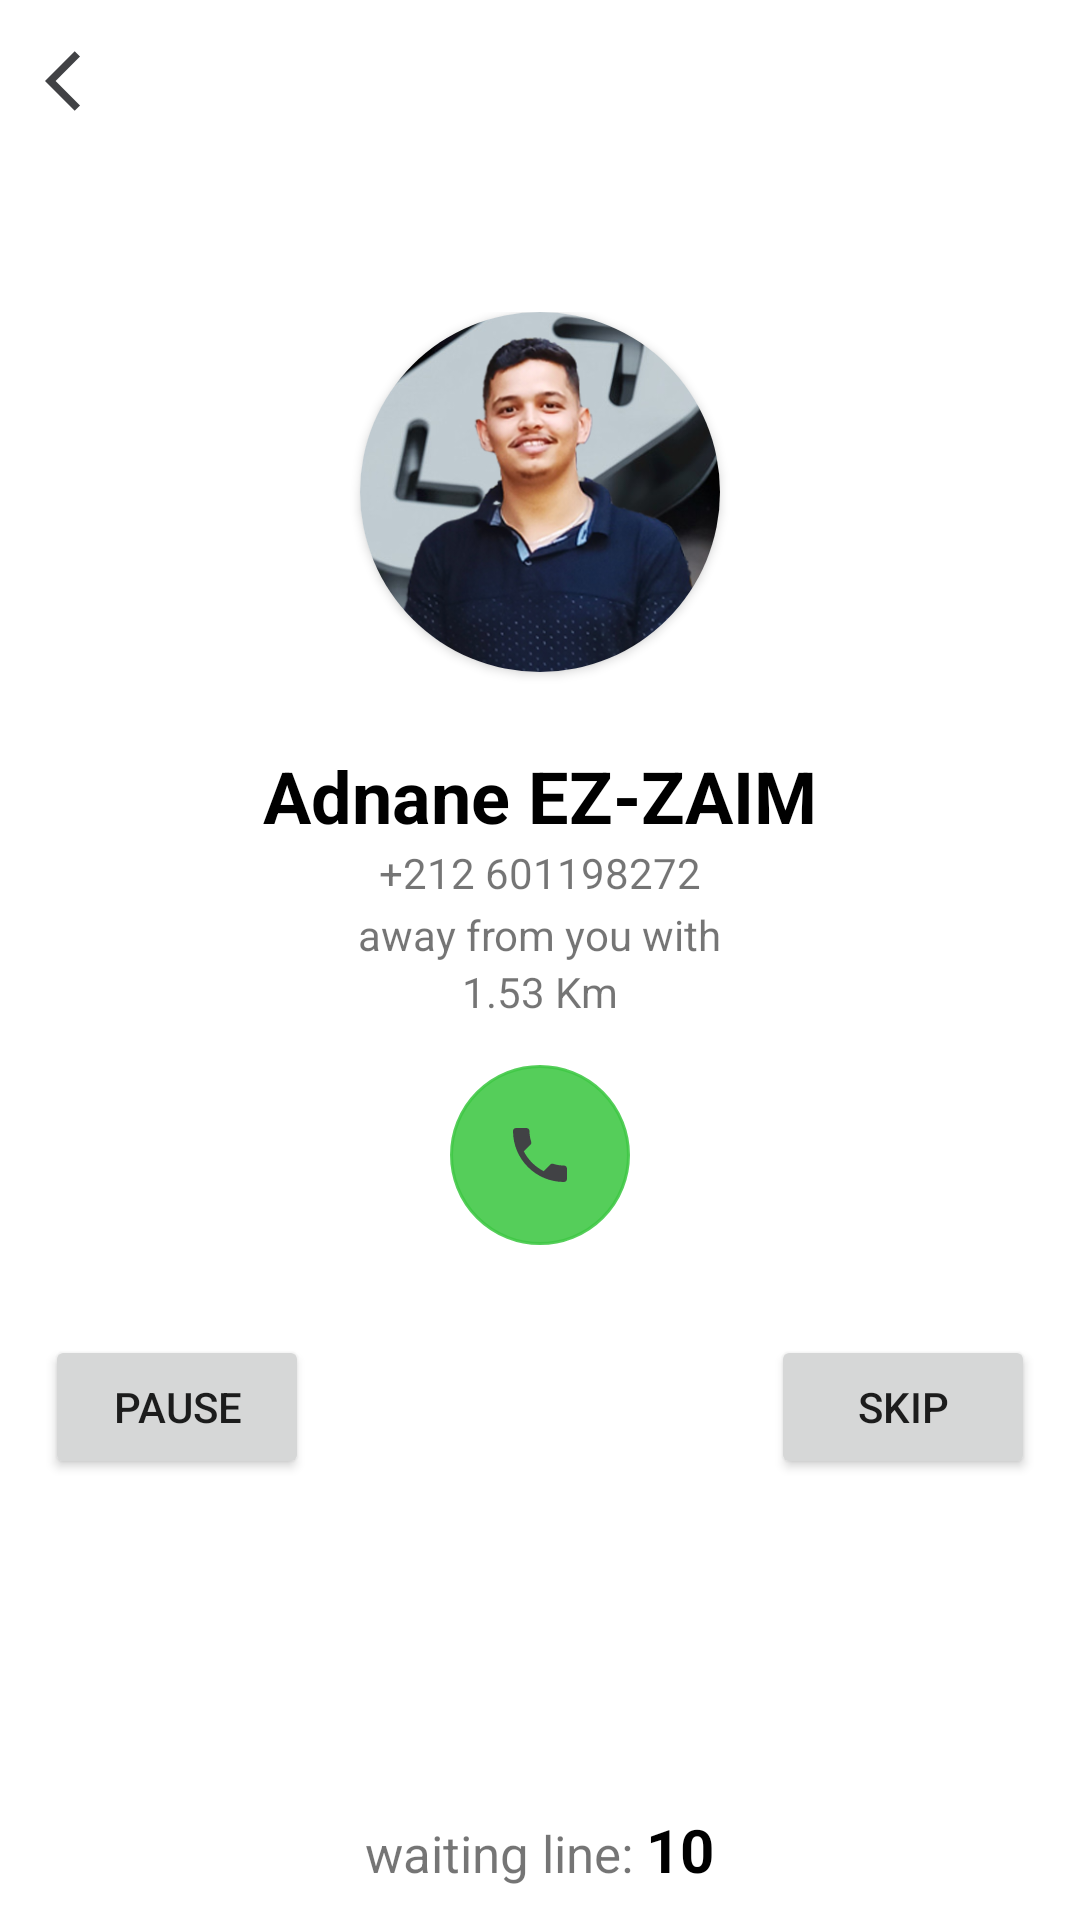

Icons on this 1080 x 1920 Android screen, each with its box as (x1,y1,x2,y2):
arrow back: (45,51,80,111)
phone: (450,1065,630,1245)
